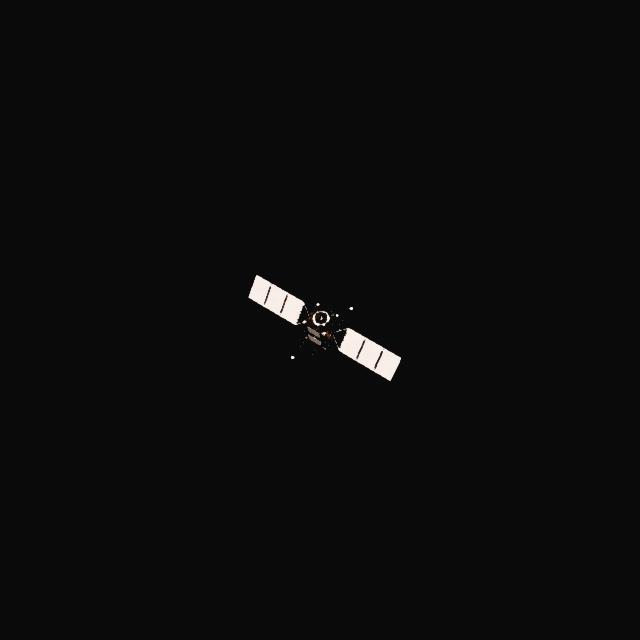satellite: (249, 276, 402, 382)
